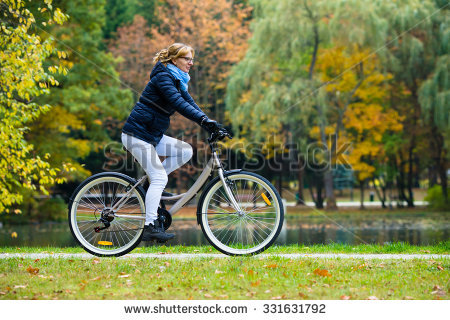bikerider: (62, 35, 290, 261)
